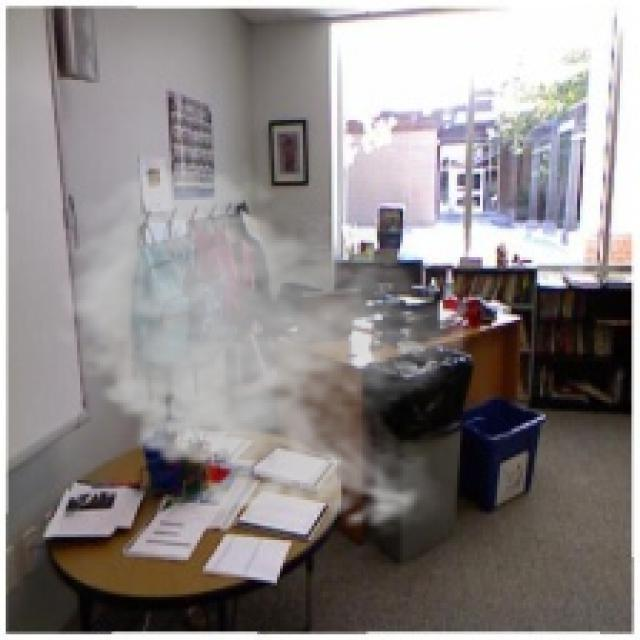Smoke: (46, 160, 468, 540)
